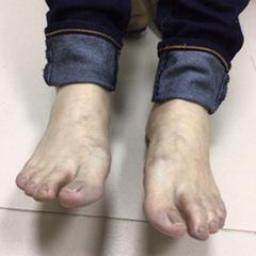Front View -Both Feet-: (10, 56, 234, 246)
